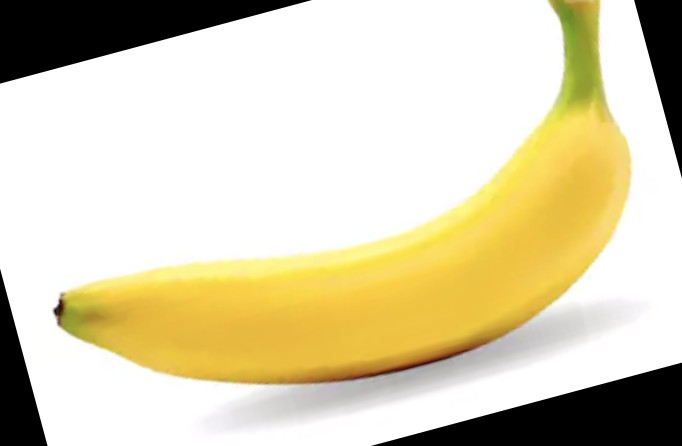fresh_banana: (56, 1, 631, 384)
